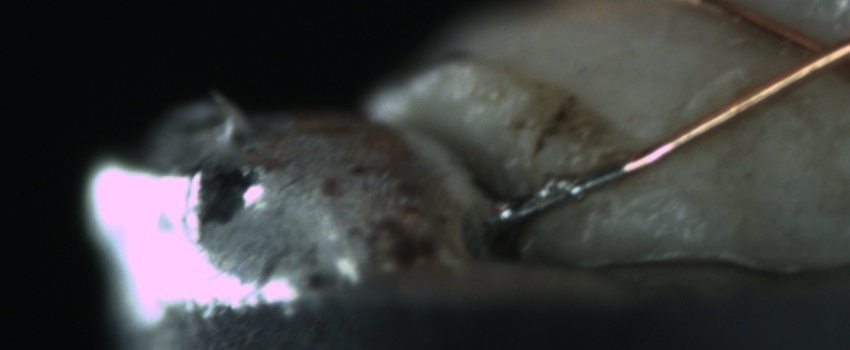CL: (775, 16, 849, 85)
TS: (492, 159, 628, 224)
TTCW: (488, 143, 653, 224)
